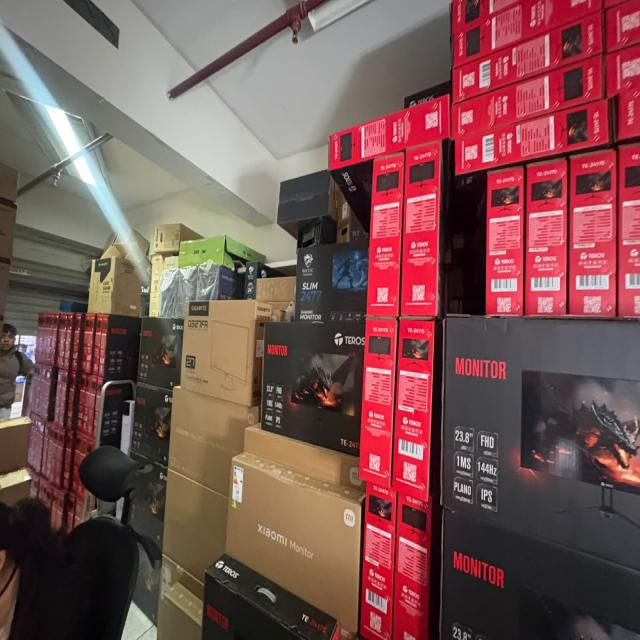caja-monitor: (443, 320, 640, 569), (439, 507, 640, 639), (223, 454, 366, 631), (329, 96, 450, 236), (260, 322, 365, 456), (452, 13, 605, 104), (451, 56, 603, 141), (454, 100, 610, 180), (202, 557, 342, 639), (453, 1, 604, 67), (180, 300, 272, 407), (169, 387, 260, 495), (391, 318, 437, 500), (244, 426, 365, 493), (569, 148, 616, 317), (162, 471, 228, 585), (401, 140, 443, 315), (523, 159, 566, 318), (360, 318, 399, 488), (295, 241, 369, 321), (393, 492, 433, 639), (367, 154, 402, 314), (360, 484, 395, 639), (487, 170, 523, 318), (617, 140, 640, 319), (129, 385, 172, 469), (137, 318, 184, 392), (163, 582, 202, 639), (245, 262, 290, 303), (258, 276, 296, 304), (93, 377, 103, 439), (99, 314, 108, 377), (87, 376, 96, 438), (93, 315, 102, 376), (82, 376, 91, 436), (86, 315, 95, 372), (77, 375, 85, 432)
